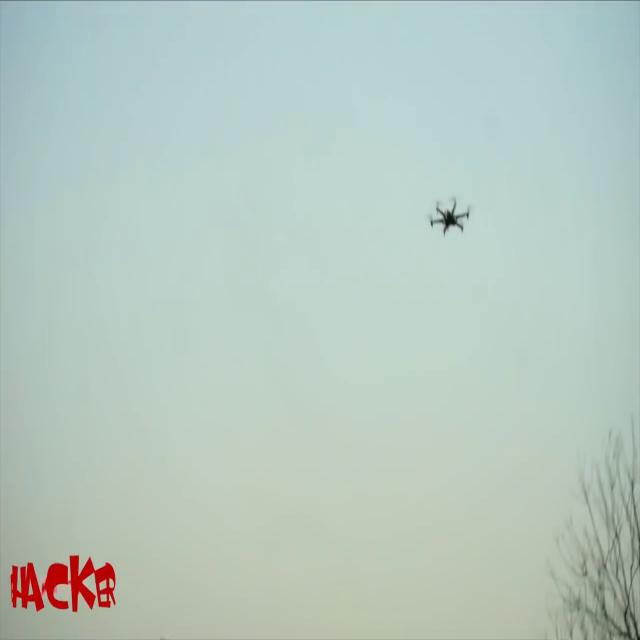drone: (413, 182, 486, 246)
